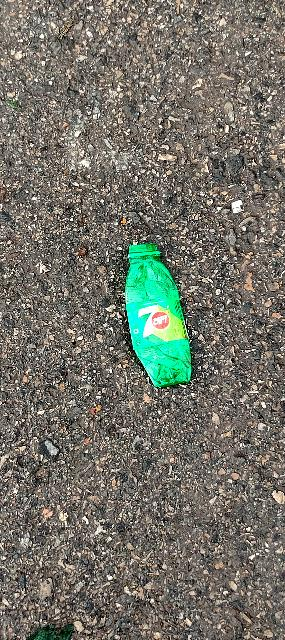bottle: (118, 235, 199, 399)
